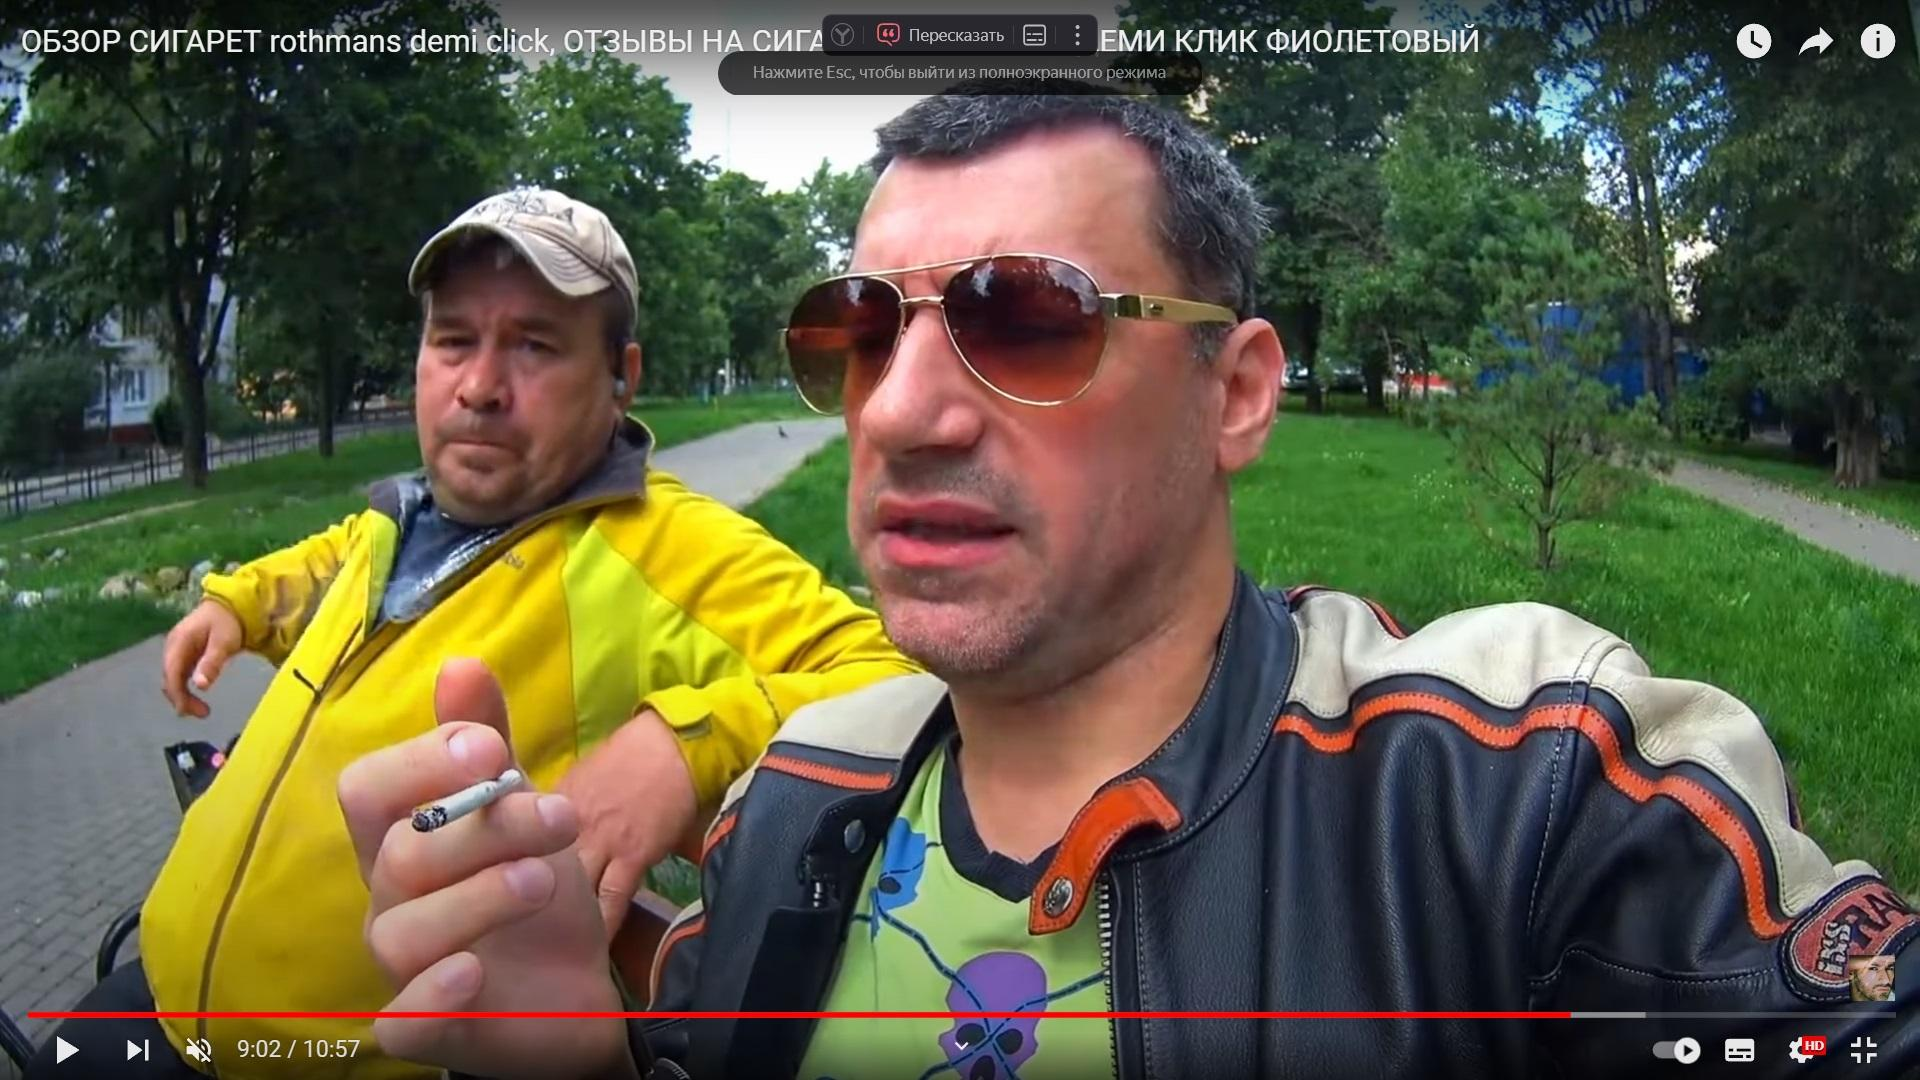cigarette: (411, 767, 522, 833)
